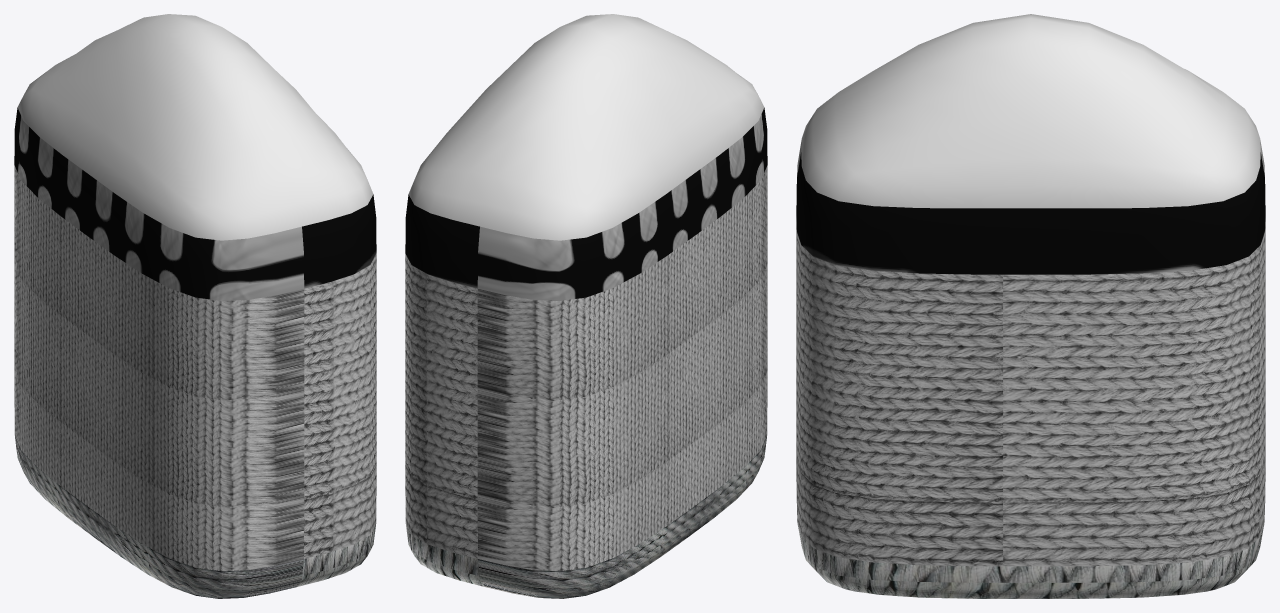
Rendered from tricot mesh.fbx.
3 views of the same model, side by side, from view 1: azimuth 30°, elevation 25°; view 2: azimuth 150°, elevation 25°; view 3: azimuth 270°, elevation 25° (orthographic). The views are drawn at different scales.
Parts seen in each view (by area): view 1: Cube.015; view 2: Cube.015; view 3: Cube.015.
Boxes of the visible parts, x1=… form: Cube.015: x1=14, y1=14, x2=376, y2=598; Cube.015: x1=405, y1=14, x2=767, y2=598; Cube.015: x1=796, y1=14, x2=1265, y2=598.
Bounding box in the file's own units: 115 × 253 × 200.
